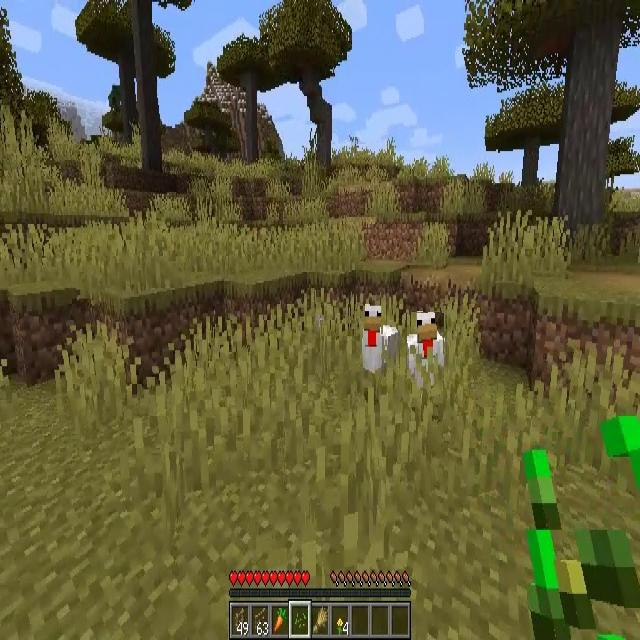duck: (407, 312, 444, 394), (364, 304, 399, 380)
